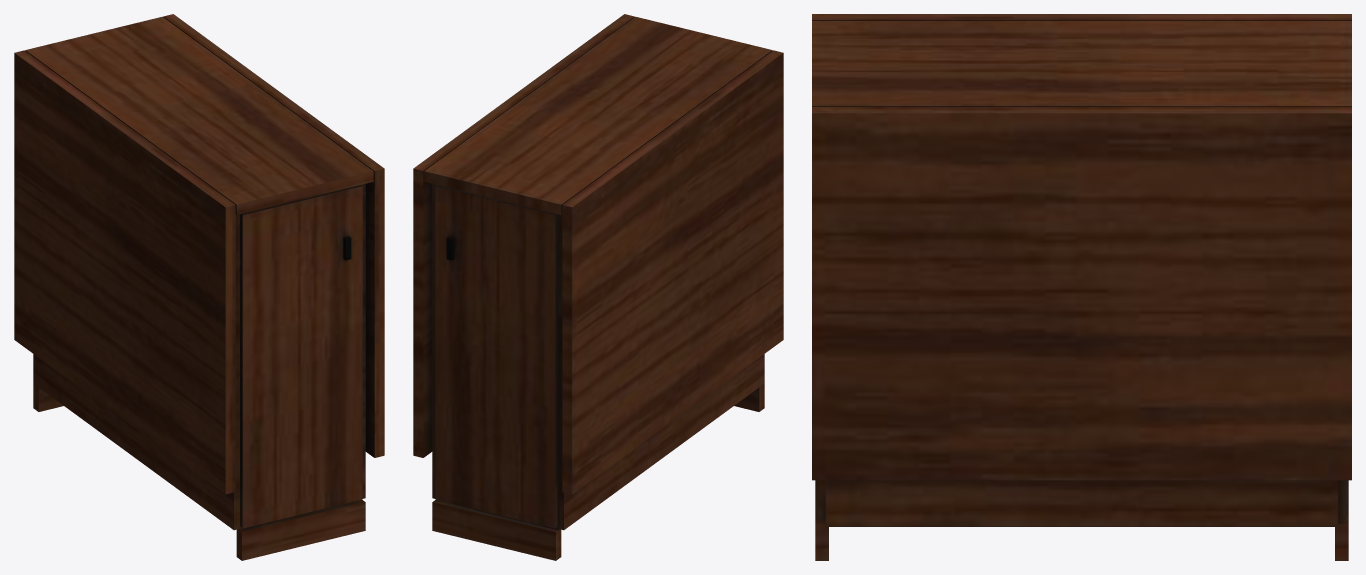
File: table_book_closed_lod1_web.glb
3 views of the same model, side by side, from view 1: azimuth 30°, elevation 25°; view 2: azimuth 150°, elevation 25°; view 3: azimuth 270°, elevation 25° (orthographic). The views are drawn at different scales.
Visible parts, largest first — view 1: TableBookClosed_Body, Leaf_L_Mesh, Leaf_R_Mesh; view 2: TableBookClosed_Body, Leaf_L_Mesh, Leaf_R_Mesh; view 3: Leaf_R_Mesh, TableBookClosed_Body, Leaf_L_Mesh.
Part boxes in pixels (x1=…): TableBookClosed_Body: x1=25, y1=16, x2=373, y2=560; Leaf_L_Mesh: x1=14, y1=50, x2=235, y2=494; Leaf_R_Mesh: x1=163, y1=14, x2=384, y2=457; TableBookClosed_Body: x1=424, y1=16, x2=772, y2=560; Leaf_L_Mesh: x1=562, y1=50, x2=783, y2=494; Leaf_R_Mesh: x1=413, y1=14, x2=634, y2=457; Leaf_R_Mesh: x1=812, y1=107, x2=1351, y2=480; TableBookClosed_Body: x1=812, y1=21, x2=1351, y2=560; Leaf_L_Mesh: x1=812, y1=14, x2=1351, y2=20.
Size of the model in its own units: 0.3479 by 0.7501 by 0.8.
1 material, 1 textured.
